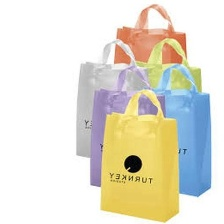plastic_bag: (96, 88, 182, 224), (87, 65, 169, 191), (142, 61, 213, 196), (72, 37, 149, 159), (111, 1, 193, 67), (129, 35, 205, 93)
